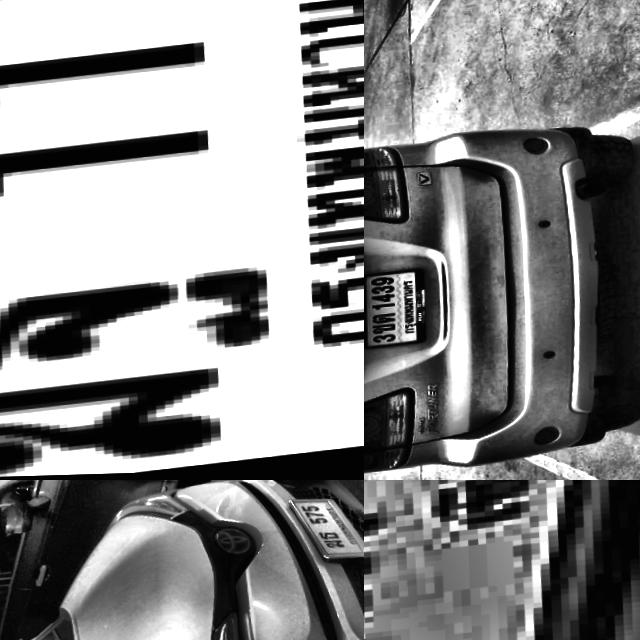license-plate: (0, 0, 364, 480), (364, 480, 640, 640), (364, 262, 438, 352), (284, 488, 364, 569)
